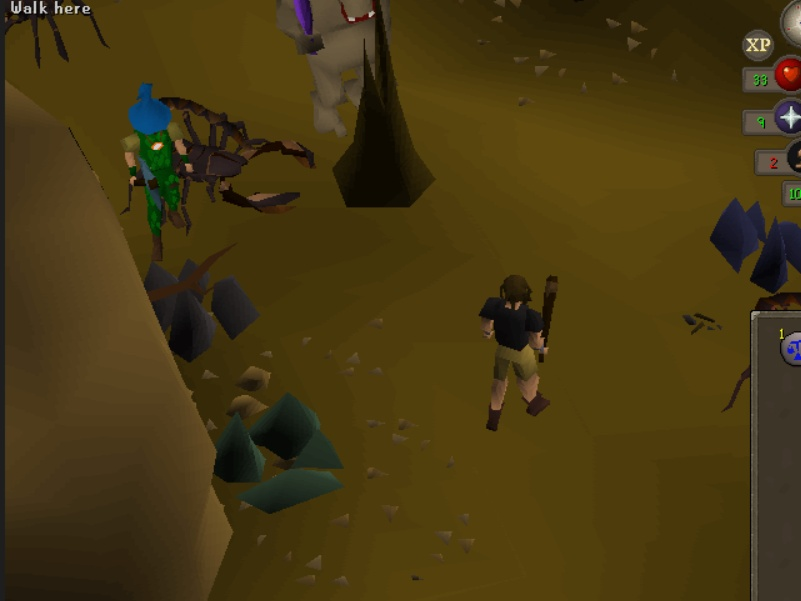adamant: (208, 382, 357, 515)
mithril: (706, 183, 801, 297)
